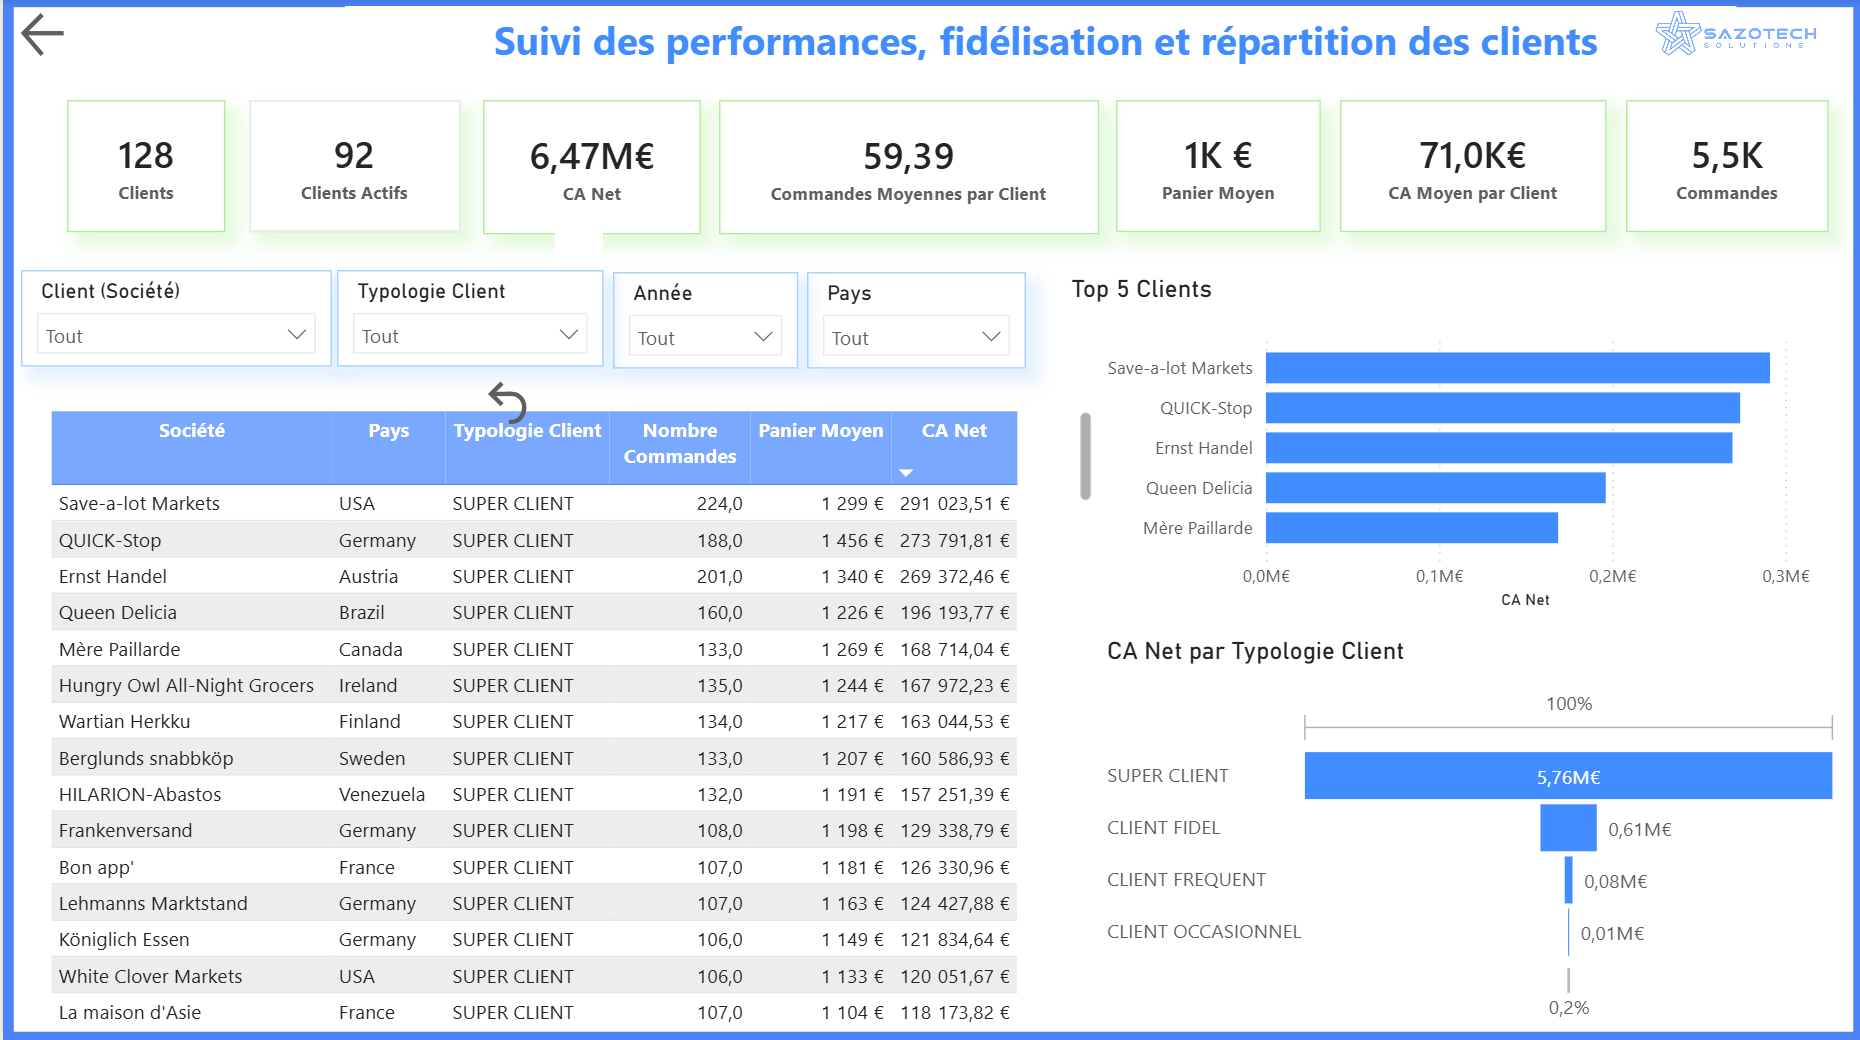

This screenshot's page, from the dashboard's own definition file:
{"tool":"powerbi","page":{"name":"Analyse des Clients","canvas":[1280,720],"ordinal":4},"visuals":[{"type":"cardVisual","fields":{"Data":["_Mesures.Nombre Clients"]},"box":[44,69.8,109.2,91],"z":0},{"type":"cardVisual","fields":{"Data":["_Mesures.Clients Actifs"]},"box":[169.9,69.8,145.6,91],"z":1000},{"type":"cardVisual","fields":{"Data":["_Mesures.CA Net"]},"box":[330.6,69.8,150.1,92.5],"z":2000},{"type":"cardVisual","fields":{"Data":["_Mesures.Nombre Commandes"]},"box":[1116.2,69.8,139.5,91],"z":3000},{"type":"cardVisual","fields":{"Data":["_Mesures.Panier Moyen"]},"box":[765.9,69.8,141,91],"z":4000},{"type":"clusteredBarChart","title":"Top 5 Clients","fields":{"Category":["Client.Société"],"Y":["_Mesures.CA Net"]},"box":[729.5,189.6,518.7,235.1],"z":5000},{"type":"slicer","fields":{"Values":["Client.Pays"]},"box":[553.6,189.1,150.1,66.7],"z":6000},{"type":"slicer","fields":{"Values":["Calendrier.Année"]},"box":[420.1,189.1,127.4,66.7],"z":7000},{"type":"slicer","fields":{"Values":["Client.Société"]},"box":[12.1,187.5,213.8,66.7],"z":8000},{"type":"textbox","box":[235.1,5.4,956.8,48.6],"z":9000},{"type":"cardVisual","fields":{"Data":["_Mesures.CA Moyen par Client"]},"box":[919.1,69.8,183.5,91],"z":10000},{"type":"cardVisual","fields":{"Data":["_Mesures.Commandes Moyennes par Client"]},"box":[492.9,69.8,260.9,92.5],"z":11000},{"type":"funnel","fields":{"Category":["Client.Typologie Client"],"Y":["_Mesures.CA Net"]},"box":[753.7,439.8,514.1,270],"z":12000},{"type":"slicer","fields":{"Values":["Client.Typologie Client"]},"box":[230.5,187.5,183.5,66.7],"z":13000},{"type":"tableEx","fields":{"Values":["Client.Société","Client.Pays","Client.Typologie Client","_Mesures.Nombre Commandes","_Mesures.Panier Moyen","_Mesures.CA Net"]},"box":[27.3,279.1,726.4,430.7],"z":14000},{"type":"image","box":[1108.1,8.1,170.3,32.4],"z":16000},{"type":"actionButton","box":[7.6,6.1,100.1,39.4],"z":17000},{"type":"actionButton","box":[327.6,259.3,50,39.4],"z":18000}]}

Visuals, with their boxes in screenshot pixels (x1, y1, x2, y2), scaled from the page's 1280x720 canvas onto the 1860x1040 screenshot:
cardVisual - _Mesures.Nombre Clients: {"x1": 64, "y1": 101, "x2": 223, "y2": 232}
cardVisual - _Mesures.Clients Actifs: {"x1": 247, "y1": 101, "x2": 458, "y2": 232}
cardVisual - _Mesures.CA Net: {"x1": 480, "y1": 101, "x2": 699, "y2": 234}
cardVisual - _Mesures.Nombre Commandes: {"x1": 1622, "y1": 101, "x2": 1825, "y2": 232}
cardVisual - _Mesures.Panier Moyen: {"x1": 1113, "y1": 101, "x2": 1318, "y2": 232}
"Top 5 Clients" clusteredBarChart: {"x1": 1060, "y1": 274, "x2": 1814, "y2": 613}
slicer - Client.Pays: {"x1": 804, "y1": 273, "x2": 1023, "y2": 369}
slicer - Calendrier.Année: {"x1": 610, "y1": 273, "x2": 796, "y2": 369}
slicer - Client.Société: {"x1": 18, "y1": 271, "x2": 328, "y2": 367}
textbox: {"x1": 342, "y1": 8, "x2": 1732, "y2": 78}
cardVisual - _Mesures.CA Moyen par Client: {"x1": 1336, "y1": 101, "x2": 1602, "y2": 232}
cardVisual - _Mesures.Commandes Moyennes par Client: {"x1": 716, "y1": 101, "x2": 1095, "y2": 234}
funnel - Client.Typologie Client x _Mesures.CA Net: {"x1": 1095, "y1": 635, "x2": 1842, "y2": 1025}
slicer - Client.Typologie Client: {"x1": 335, "y1": 271, "x2": 602, "y2": 367}
tableEx - Client.Société x Client.Pays: {"x1": 40, "y1": 403, "x2": 1095, "y2": 1025}
image: {"x1": 1610, "y1": 12, "x2": 1858, "y2": 58}
actionButton: {"x1": 11, "y1": 9, "x2": 157, "y2": 66}
actionButton: {"x1": 476, "y1": 375, "x2": 549, "y2": 431}
